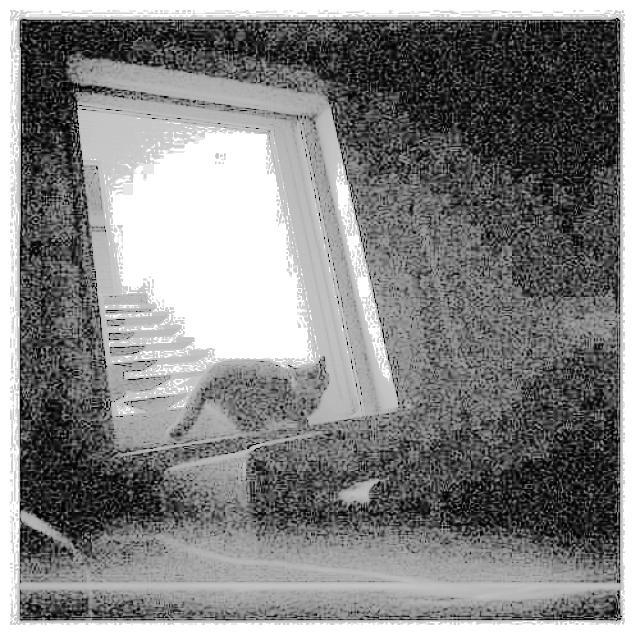Cat: (172, 354, 328, 445)
